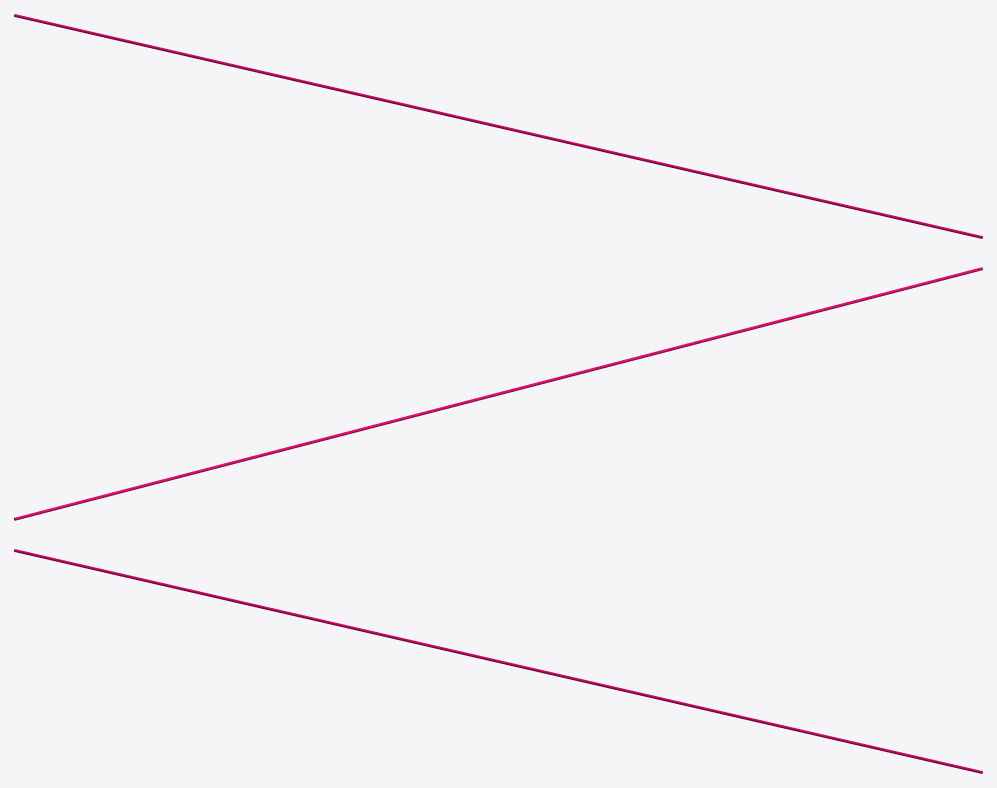
3 renders of one model, top to bottom at view 1: azimuth 90°, elevation 25°; view 2: azimuth 150°, elevation 25°; view 3: azimuth 270°, elevation 25°, orthographic. The views are drawn at different scales.
Visible parts, largest first — view 1: Цилиндр.001; view 2: Цилиндр.001; view 3: Цилиндр.001.
Part boxes in pixels (x1=…): Цилиндр.001: x1=14, y1=14, x2=982, y2=238; Цилиндр.001: x1=14, y1=267, x2=982, y2=520; Цилиндр.001: x1=14, y1=549, x2=982, y2=773.
Size of the model in its own units: 1.79 by 0.01 by 3.29.
